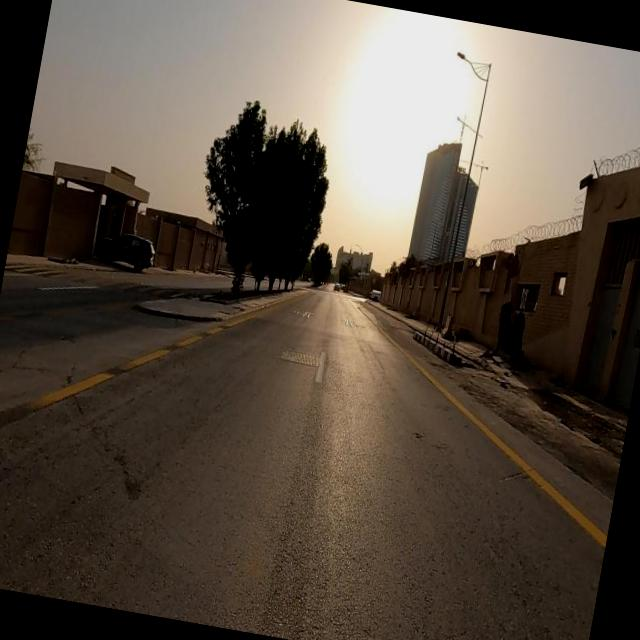debris: (448, 262, 567, 418)
